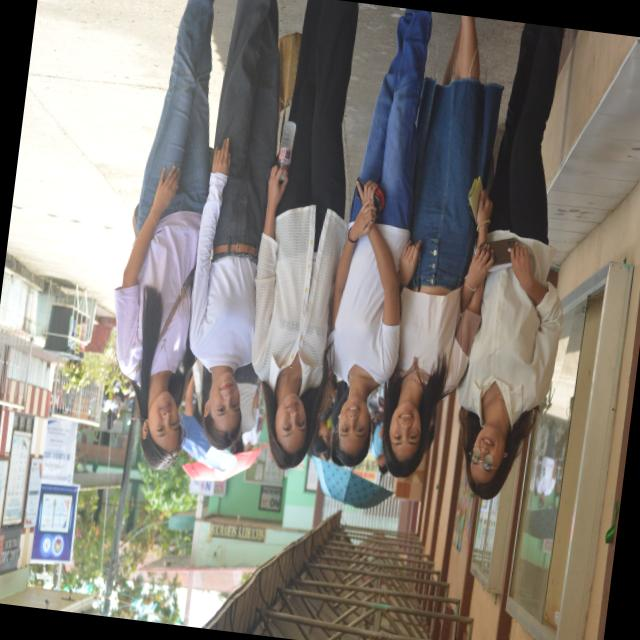person: (383, 16, 501, 476), (458, 23, 563, 498), (251, 0, 357, 468), (329, 9, 431, 465), (114, 0, 213, 468), (189, 0, 279, 448), (230, 362, 258, 452), (536, 421, 556, 507), (371, 421, 387, 474)
